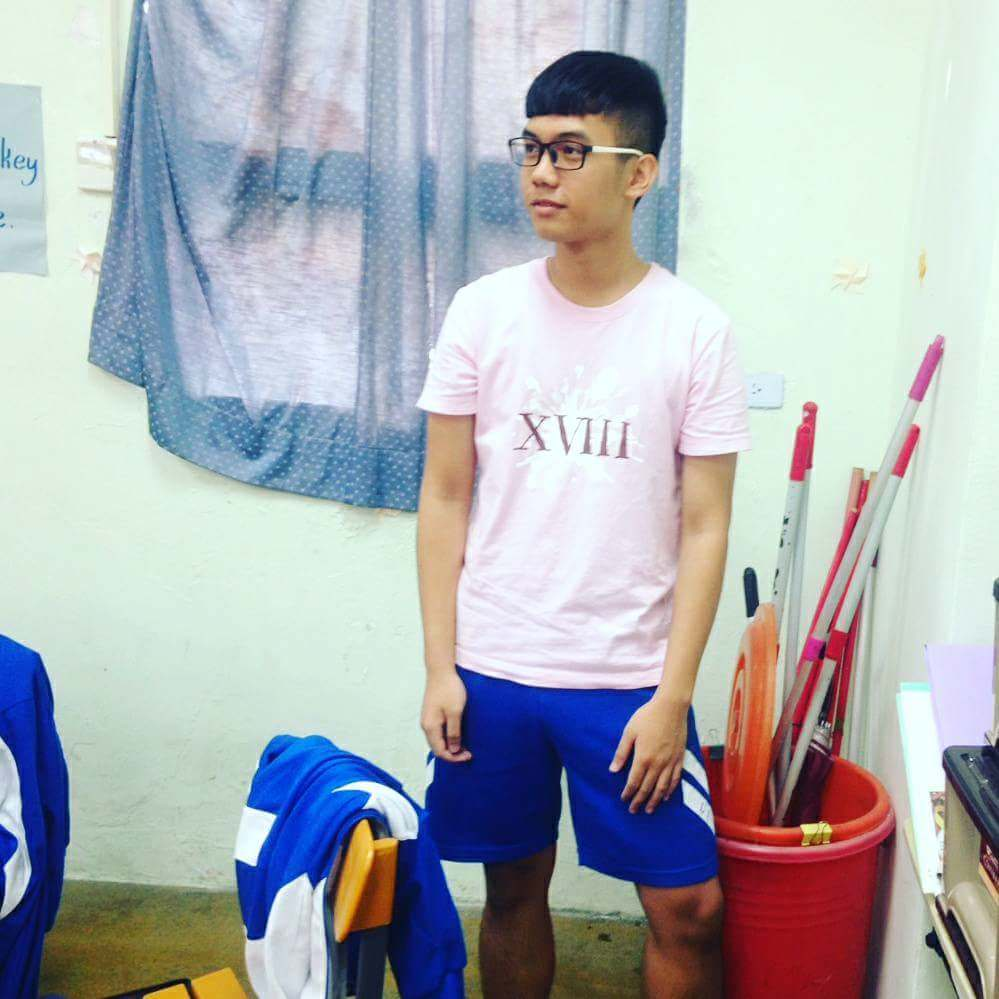people: (419, 51, 754, 999)
